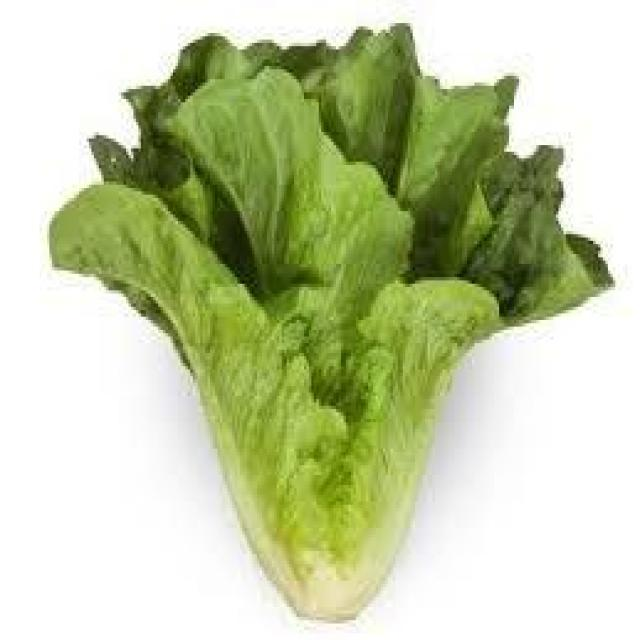organic: (47, 23, 613, 624)
